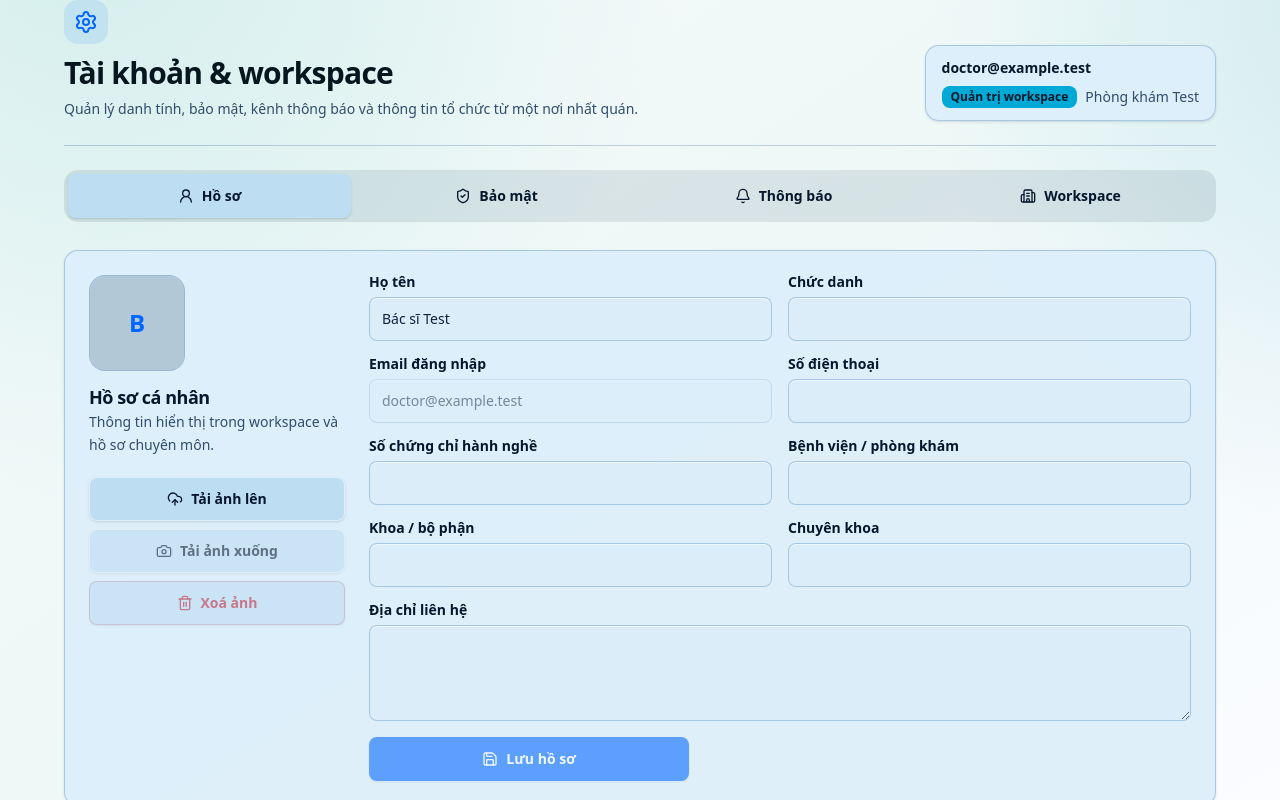
it: WorkspaceSettings › guards a changed profile draft from accidental browser navigation
The width and height of the screenshot is (1280, 800).
Replace the text in the field with id "account-name" with "Bác sĩ đang chỉnh sửa". click: (570,319)
box: left=369, top=297, right=772, bottom=341
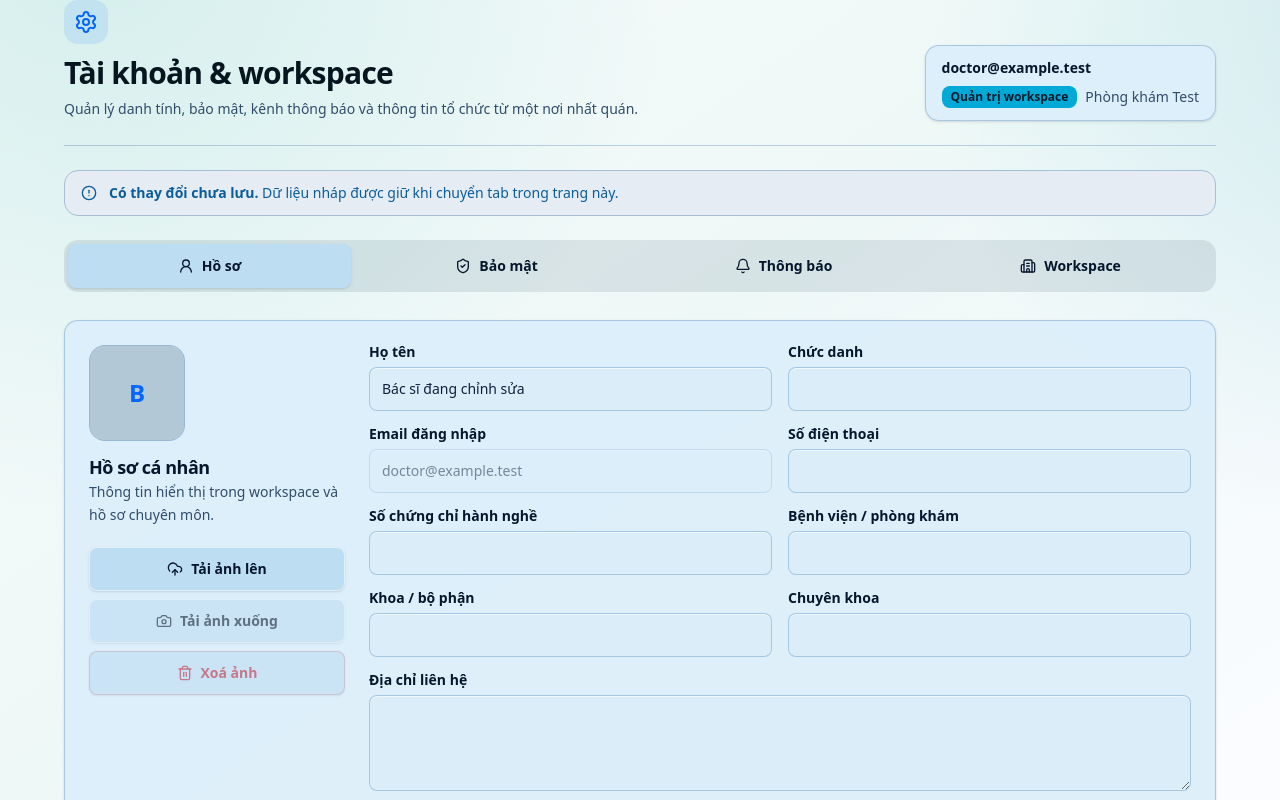
Check: the text "Có thay đổi chưa lưu." is shown, box left=109, top=183, right=258, bottom=202
